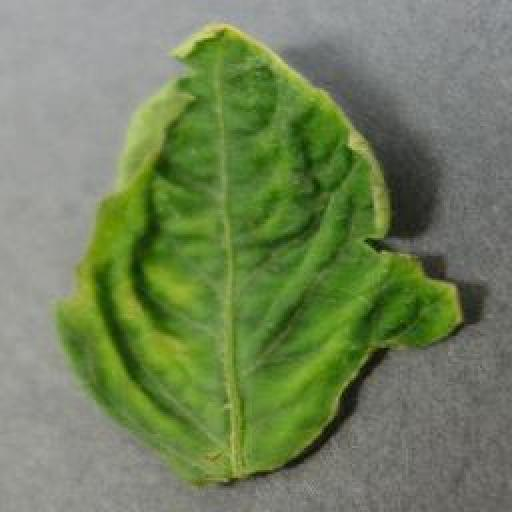disease_tomato: (56, 24, 460, 490)
